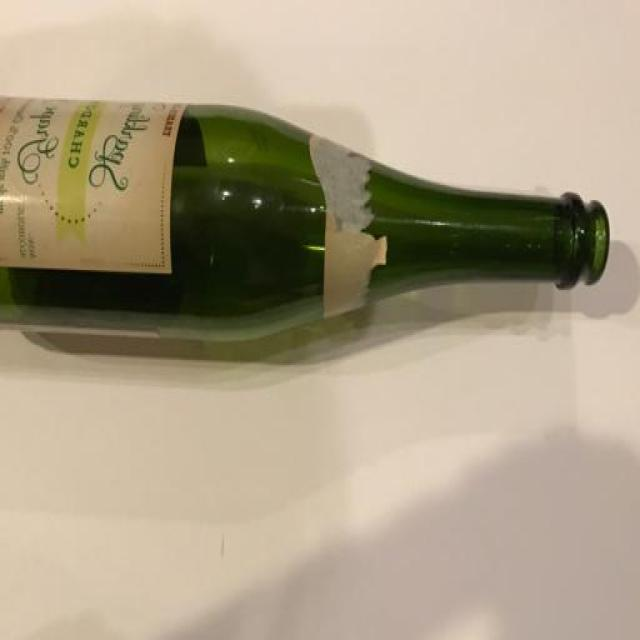glass: (0, 86, 621, 375)
